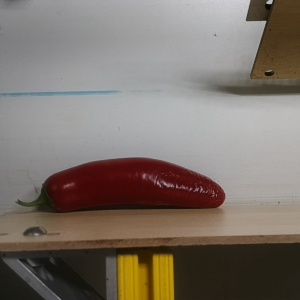Cut Point: (34, 174, 65, 214)
